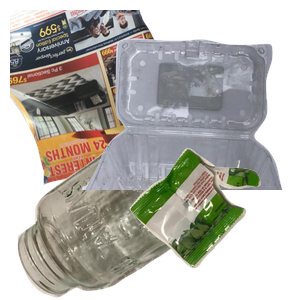glass: (15, 126, 229, 300)
paper: (10, 10, 230, 188)
plastic: (80, 36, 300, 216)
trash: (127, 146, 300, 300)
